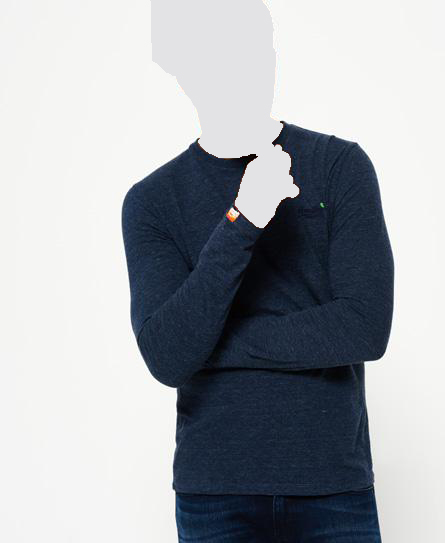teeshirt: (111, 123, 400, 495)
